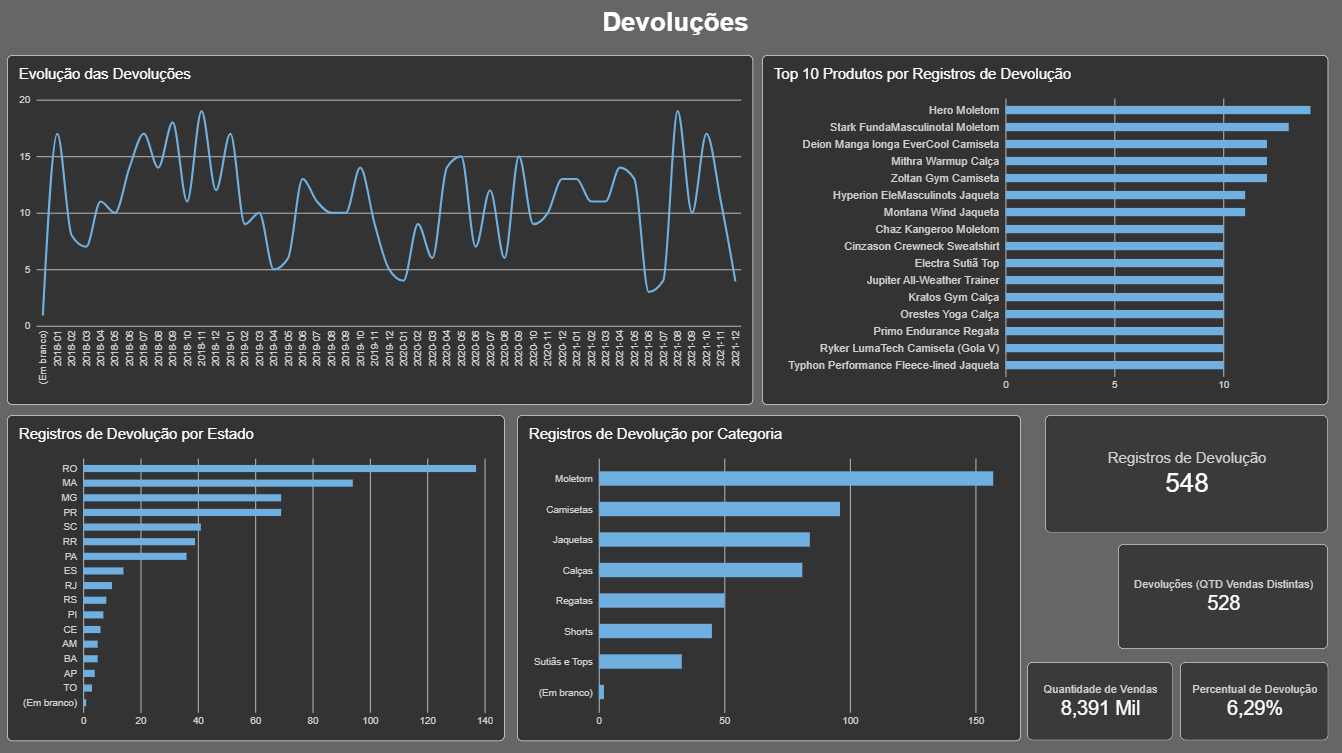

What the dashboard file says about the page in this screenshot:
{"tool":"powerbi","page":{"name":"Devoluções","canvas":[1920,1080],"ordinal":3},"visuals":[{"type":"textbox","box":[10,10,1910,52.9],"z":0},{"type":"cardVisual","fields":{"Data":["Devolução.Devoluções"]},"box":[1597.1,777.1,300,150],"z":1000},{"type":"cardVisual","fields":{"Data":["Devolução.% Devolução"]},"box":[1685.7,945.7,212.9,112.9],"z":2000},{"type":"cardVisual","fields":{"Data":["Vendas.Quantidade de Vendas"]},"box":[1467.1,945.7,208.6,112.9],"z":3000},{"type":"cardVisual","fields":{"Data":["Devolução.Registros de Devolução"]},"box":[1492.9,592.9,404.3,168.6],"z":4000},{"type":"lineChart","title":"Evolução das Devoluções","fields":{"Category":["Calendário.Ano-Mês"],"Y":["Devolução.Devoluções"]},"box":[10,78.6,1065.7,500],"z":5000},{"type":"barChart","title":"Registros de Devolução por Categoria","fields":{"Category":["Produtos.Produto_Categoria"],"Y":["Devolução.Registros de Devolução"]},"box":[738.6,592.9,720,465.7],"z":6000},{"type":"barChart","fields":{"Category":["Lojas.Estado"],"Y":["Devolução.Registros de Devolução"]},"box":[10,592.9,711.4,465.7],"z":7000},{"type":"barChart","title":"Top 10 Produtos por Registros de Devolução","fields":{"Category":["Produtos.Produto Nome"],"Y":["Devolução.Registros de Devolução"]},"box":[1088.6,78.6,808.6,500],"z":8000}]}

Visuals, with their boxes in screenshot pixels (x1, y1, x2, y2), scaled from the page's 1920x1080 canvas onto the 1342x753 screenshot:
textbox: x1=7 y1=7 x2=1341 y2=44
cardVisual - Devolução.Devoluções: x1=1116 y1=542 x2=1326 y2=646
cardVisual - Devolução.% Devolução: x1=1178 y1=659 x2=1327 y2=738
cardVisual - Vendas.Quantidade de Vendas: x1=1025 y1=659 x2=1171 y2=738
cardVisual - Devolução.Registros de Devolução: x1=1043 y1=413 x2=1326 y2=531
"Evolução das Devoluções" lineChart: x1=7 y1=55 x2=752 y2=403
"Registros de Devolução por Categoria" barChart: x1=516 y1=413 x2=1020 y2=738
barChart - Lojas.Estado x Devolução.Registros de Devolução: x1=7 y1=413 x2=504 y2=738
"Top 10 Produtos por Registros de Devolução" barChart: x1=761 y1=55 x2=1326 y2=403
